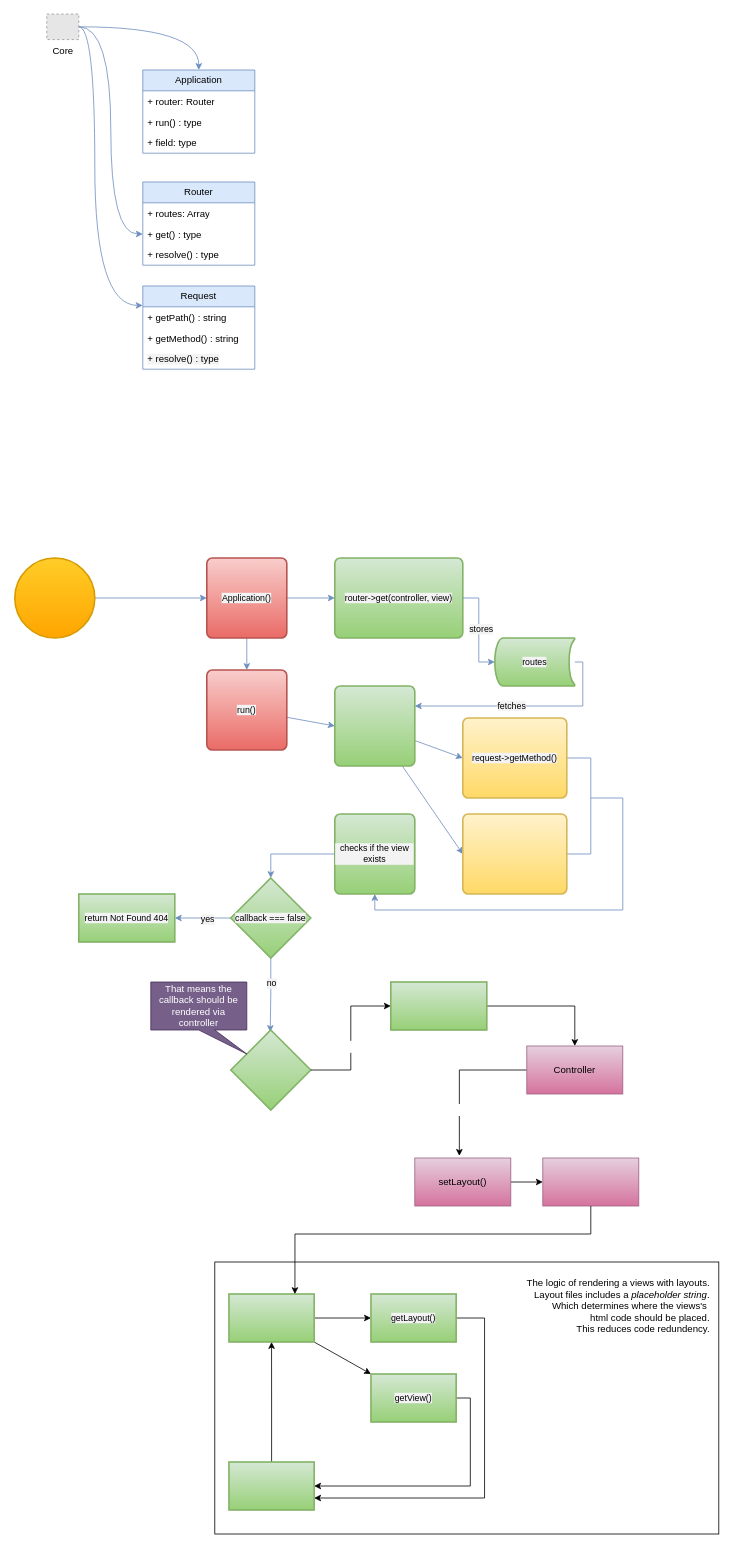
Some shapes in this 733 by 1548 pixel diagram are drawn without their labels. Grey dashed boxes stand in for pictures. Here are the shapes that lost their labels. From the top down, the centre of each, then its label:
At (x=54, y=597): "index.php".
At (x=374, y=725): "router->resolve()".
At (x=514, y=853): "request->getController()".
At (x=438, y=1005): "Creates a new instance of controller".
At (x=270, y=1069): "callback === array".
At (x=590, y=1181): "render()".
At (x=271, y=1317): "renderView()".
At (x=271, y=1485): "replace the placeholder in getLayout with the content of view".
